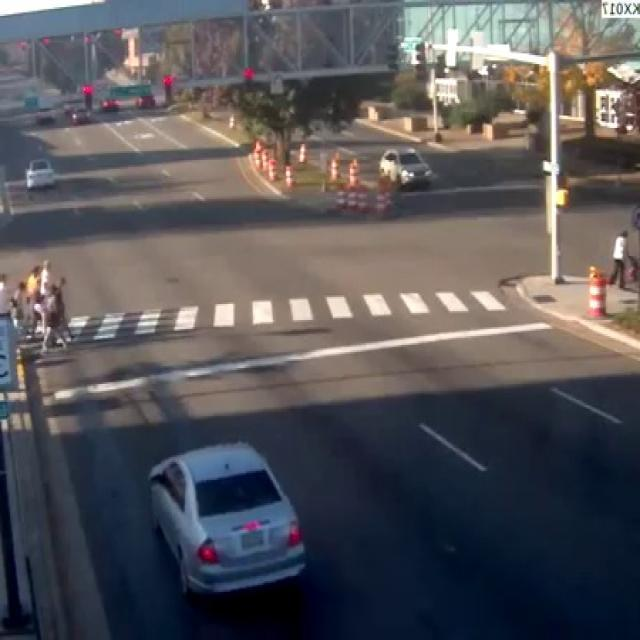car: (148, 442, 303, 590)
red_light: (160, 73, 172, 104), (79, 81, 92, 109)
stop_line: (51, 320, 546, 392)
